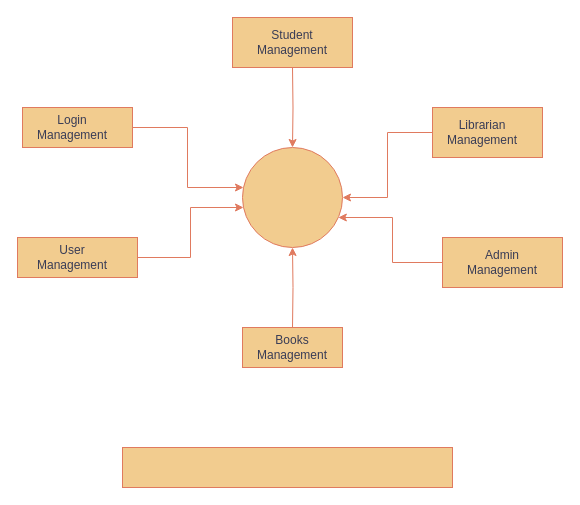
Some shapes in this 580 by 505 pixel diagram are drawn without their labels. Here are the shapes that lost their labels. From the top down, the centre of each, then its label:
At point 292,197: "Library Management System".
At point 287,467: "0 Level DFD - Library Management System".
